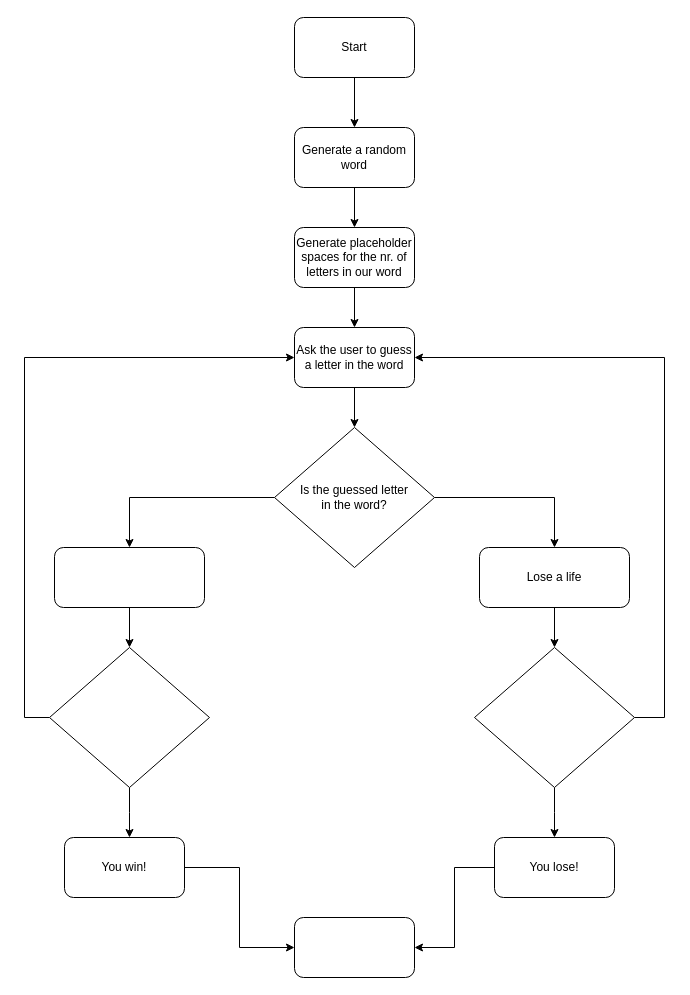
The diagram is 690 pixels wide and 995 high, and some of its shapes have lost their labels. Each missing label, with the centre of its shape:
"Are all the blank spaces filled?" belongs at (129,717).
"GAME OVER" belongs at (354,947).
"Have they run out of lives?" belongs at (554,717).
"Replace blank space(s) with the letter" belongs at (129,577).
